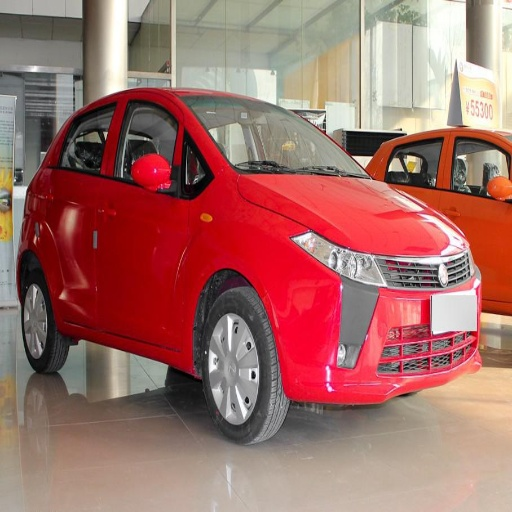front_bumper: (274, 264, 429, 384), (432, 295, 476, 368)
front_right_door: (99, 96, 204, 345)
front_right_light: (292, 231, 396, 283)
trunk: (384, 288, 437, 366)
